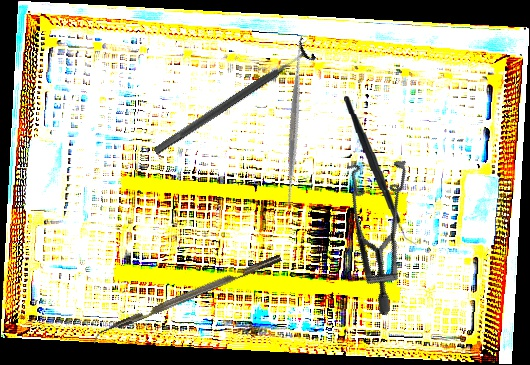Chopper: (89, 254, 286, 347), (343, 92, 418, 250)
Fixation Ring: (146, 35, 318, 164)
Spatula Surgical: (209, 39, 380, 211)
Speculum: (292, 137, 459, 317)
